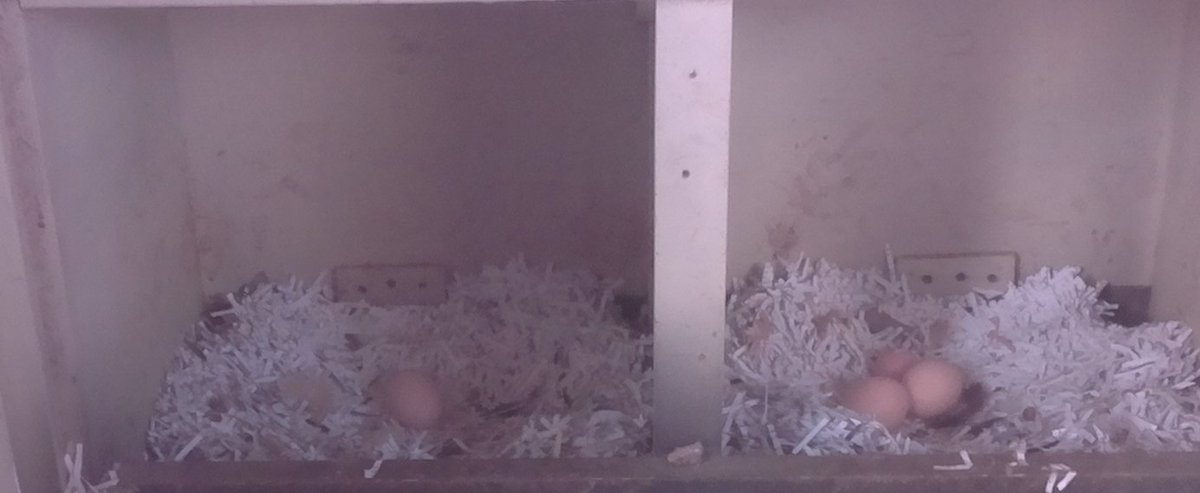egg: (380, 367, 452, 434), (840, 374, 915, 435), (906, 358, 968, 423), (868, 348, 920, 383)
